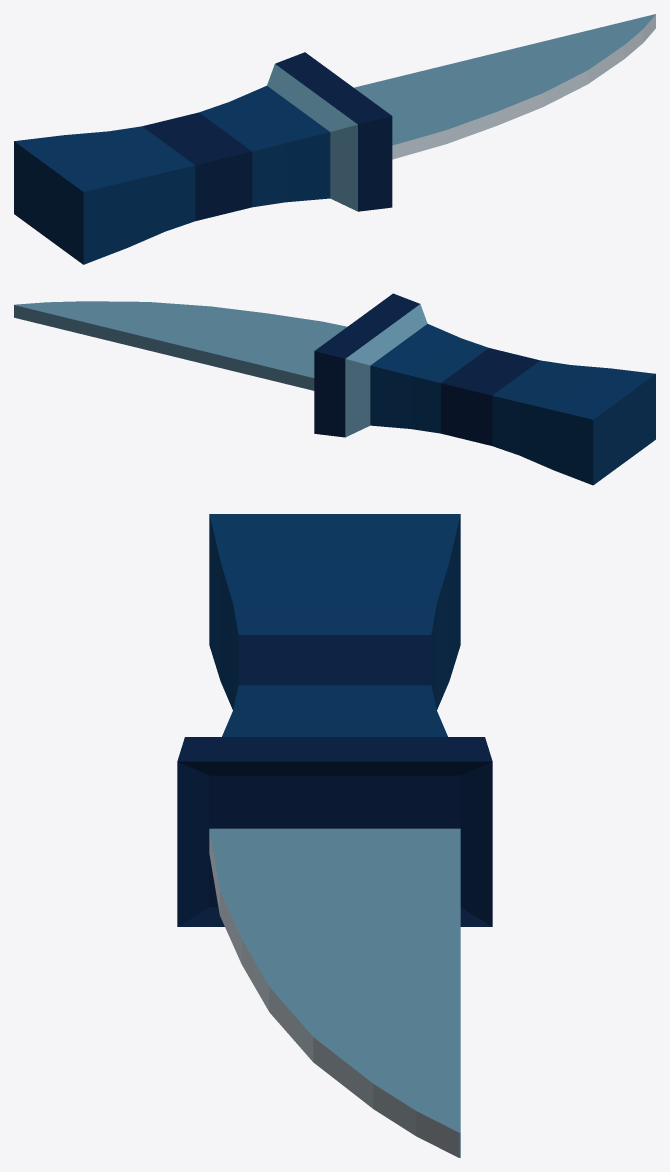
The model's file is knife.fbx.
The picture shows the model from 3 angles, top to bottom: view 1: azimuth 30°, elevation 25°; view 2: azimuth 150°, elevation 25°; view 3: azimuth 270°, elevation 25°; orthographic projection. The views are drawn at different scales.
Visible parts, largest first — view 1: knife; view 2: knife; view 3: knife.
Boxes of the visible parts, x1,y1,x2,y2 form: knife: (14,14,655,264); knife: (14,293,655,485); knife: (177,514,492,1157).
Bounding box in the file's own units: 10.86 × 1.48 × 2.56.
